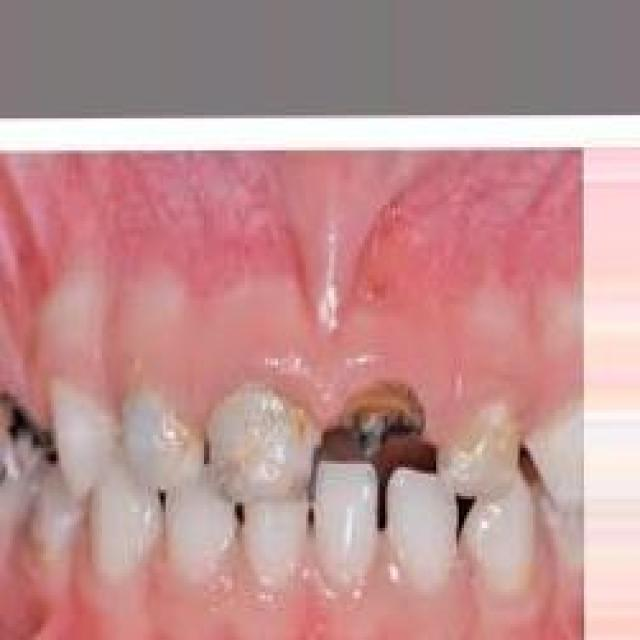caries: (439, 393, 531, 506), (321, 373, 429, 465), (0, 383, 65, 501)
